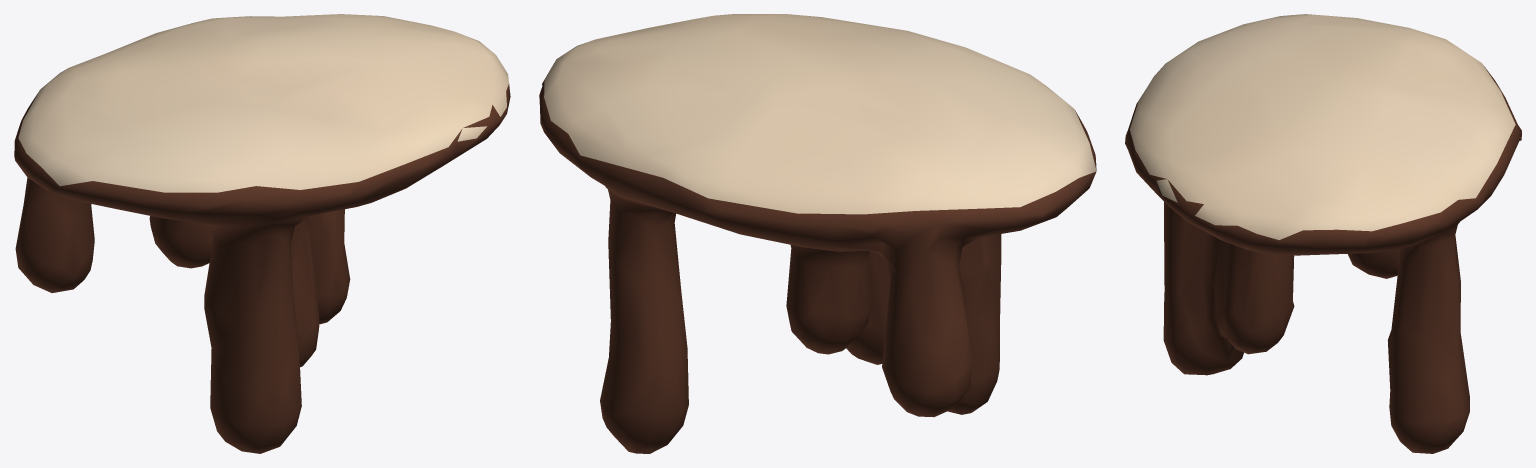
The model's file is frost_cocoa_ledge.glb.
3 views of the same model, side by side, from view 1: azimuth 30°, elevation 25°; view 2: azimuth 150°, elevation 25°; view 3: azimuth 270°, elevation 25° (orthographic). The views are drawn at different scales.
Visible parts, largest first — view 1: frost_cocoa_ledge; view 2: frost_cocoa_ledge; view 3: frost_cocoa_ledge.
Boxes of the visible parts, x1=… form: frost_cocoa_ledge: x1=14, y1=14, x2=510, y2=453; frost_cocoa_ledge: x1=539, y1=14, x2=1096, y2=453; frost_cocoa_ledge: x1=1125, y1=14, x2=1521, y2=453.
Size of the model in its own units: 3.15 by 2.16 by 2.39.
